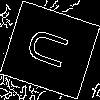U: (25, 25, 78, 74)
